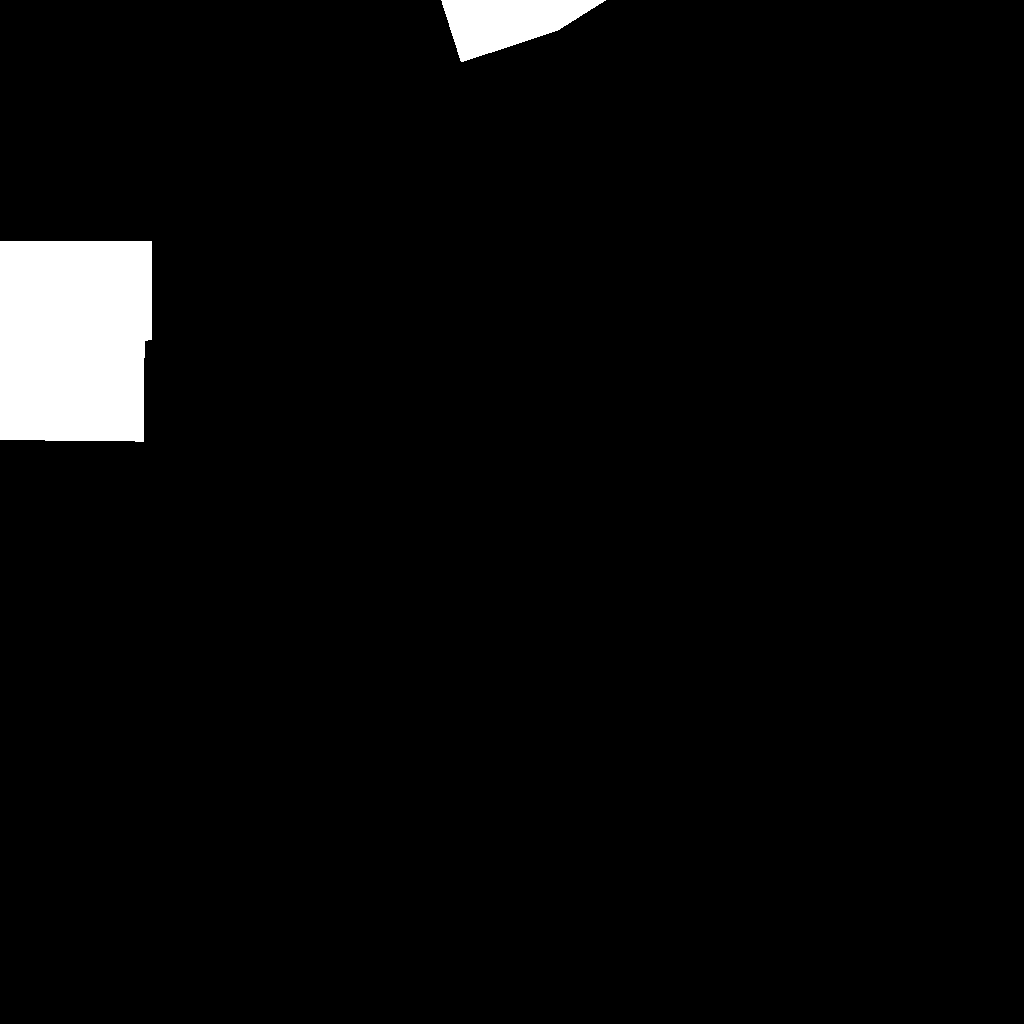building: (0, 241, 152, 442), (441, 0, 607, 63)
